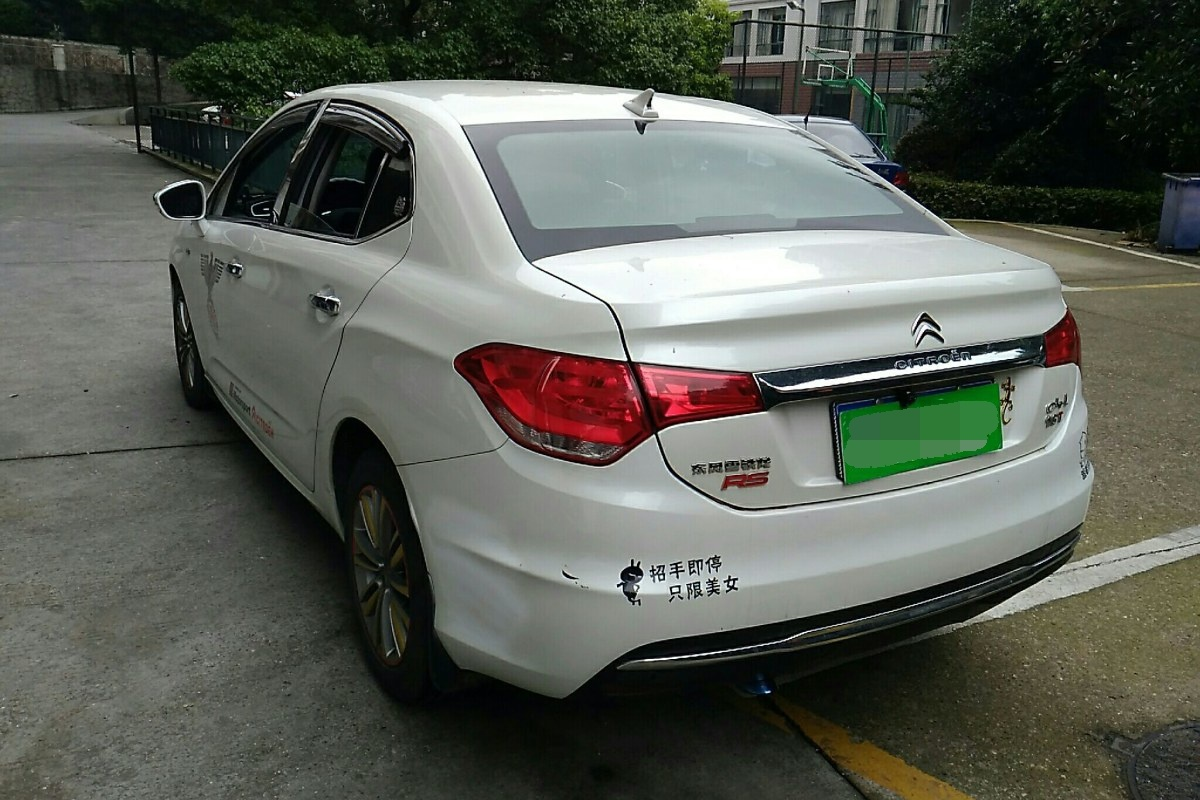family sedan: (154, 71, 1100, 702)
